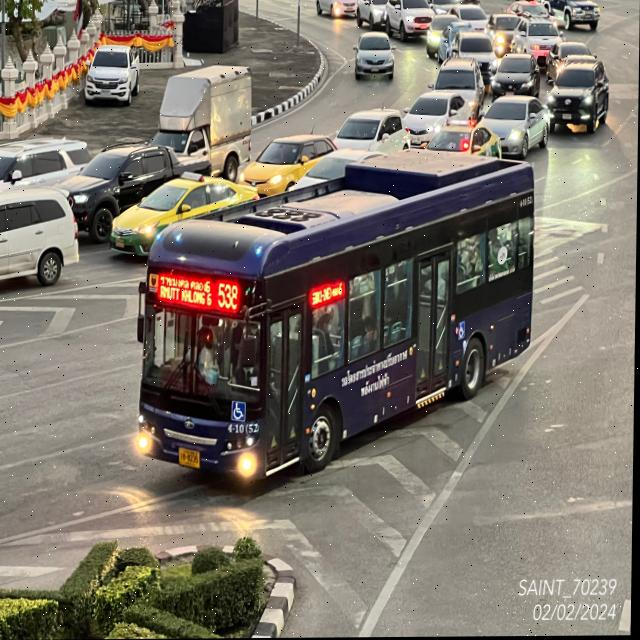Bus Line Number: (216, 278, 245, 311)
Bus Side Number: (227, 420, 264, 437)
Destination Sign: (159, 270, 215, 314)
TSB-Bus: (134, 156, 537, 489)
